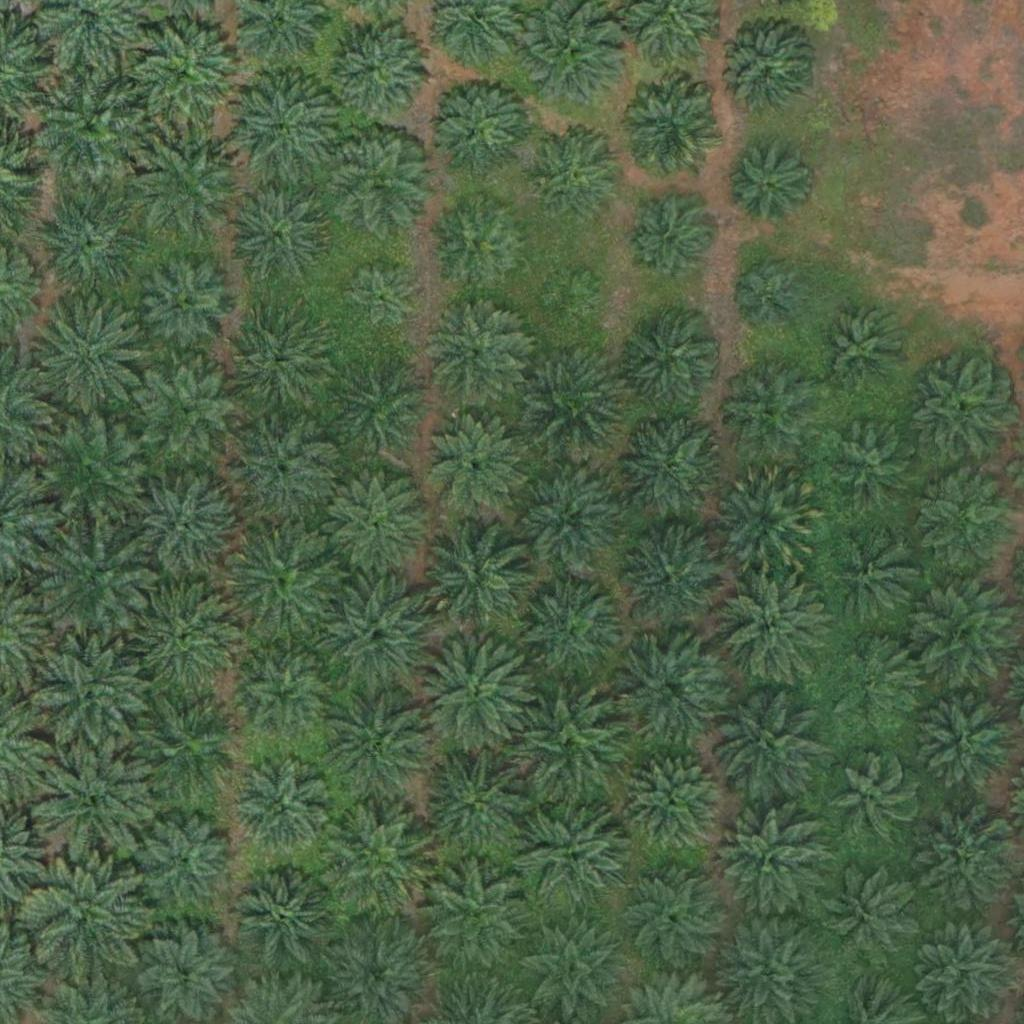Kelapa_Sawit: (31, 409, 144, 523), (38, 519, 151, 633), (323, 685, 436, 799), (421, 861, 534, 975), (710, 465, 823, 578), (613, 306, 726, 419), (229, 74, 342, 187), (130, 20, 243, 133), (33, 639, 146, 752), (35, 745, 148, 858), (29, 860, 142, 973), (227, 518, 340, 631), (324, 578, 437, 691), (418, 639, 531, 752), (420, 748, 533, 861), (714, 569, 827, 682), (709, 686, 822, 799), (713, 808, 826, 921), (126, 470, 238, 584), (134, 578, 246, 692), (324, 810, 436, 924), (614, 414, 726, 527), (515, 343, 627, 456), (513, 465, 625, 578), (225, 415, 337, 528), (132, 131, 244, 244), (35, 71, 147, 184), (31, 183, 143, 296), (33, 295, 145, 408), (131, 693, 243, 806), (421, 519, 533, 632), (511, 572, 623, 685), (510, 688, 622, 801), (518, 802, 630, 915), (613, 635, 725, 748), (617, 859, 729, 972), (718, 362, 818, 463), (529, 125, 629, 226), (427, 74, 527, 175), (431, 193, 531, 294), (423, 301, 523, 402), (423, 412, 523, 513), (327, 19, 427, 120), (328, 131, 428, 232), (330, 357, 430, 458), (328, 473, 428, 574), (228, 180, 328, 281), (225, 313, 325, 414), (138, 257, 238, 358), (138, 360, 238, 461), (135, 810, 235, 911), (237, 871, 337, 972), (619, 527, 719, 628), (622, 750, 722, 851), (920, 811, 1020, 912), (718, 20, 818, 120), (619, 80, 719, 180), (232, 758, 332, 858), (911, 361, 1011, 461), (723, 144, 811, 232), (818, 306, 906, 394), (238, 655, 326, 743), (829, 536, 917, 624), (834, 426, 921, 514), (625, 196, 712, 284), (833, 640, 920, 728), (828, 754, 915, 842), (829, 870, 916, 958), (341, 263, 416, 338), (736, 264, 799, 327), (538, 267, 600, 330)
